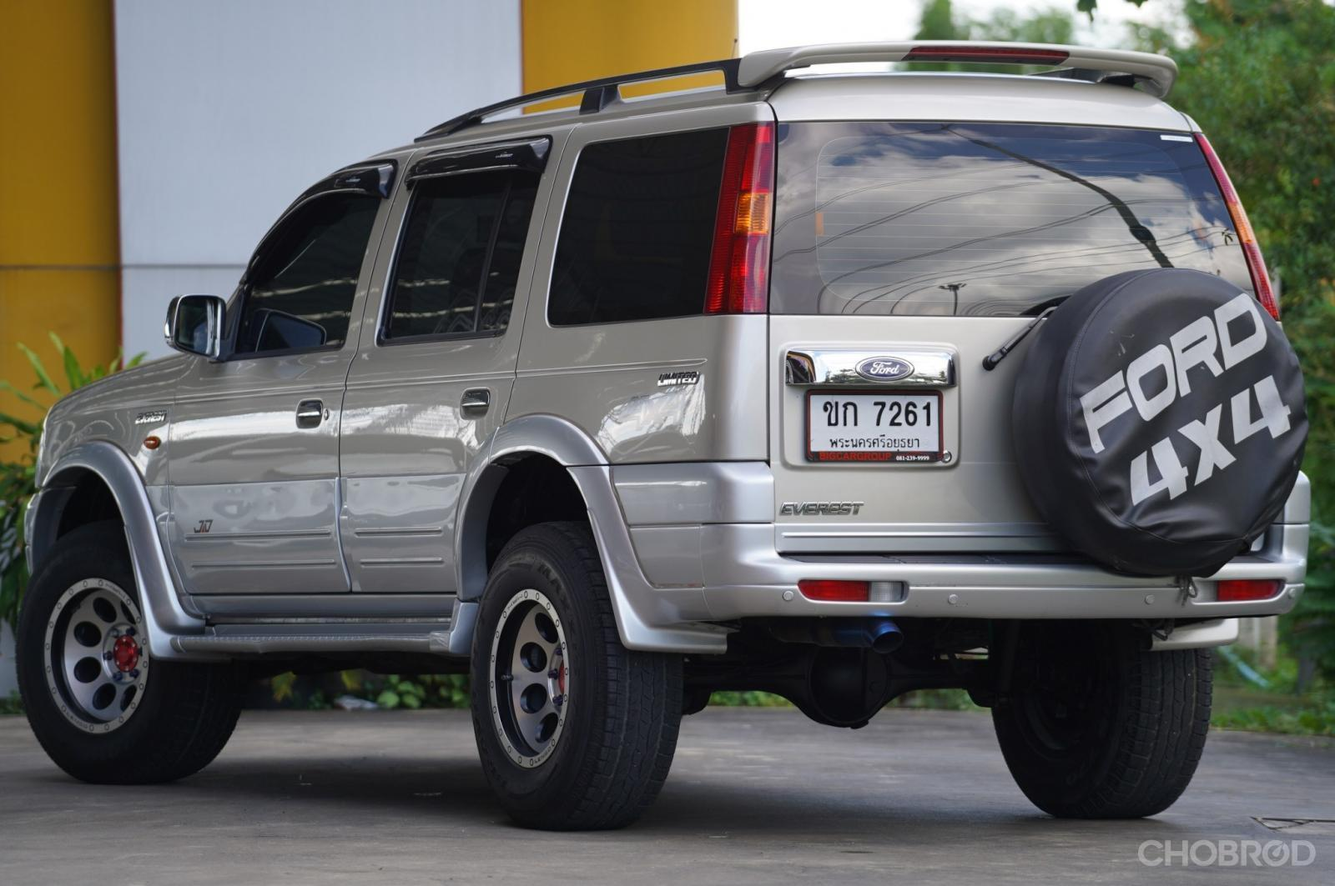license-plate: (802, 388, 950, 463)
